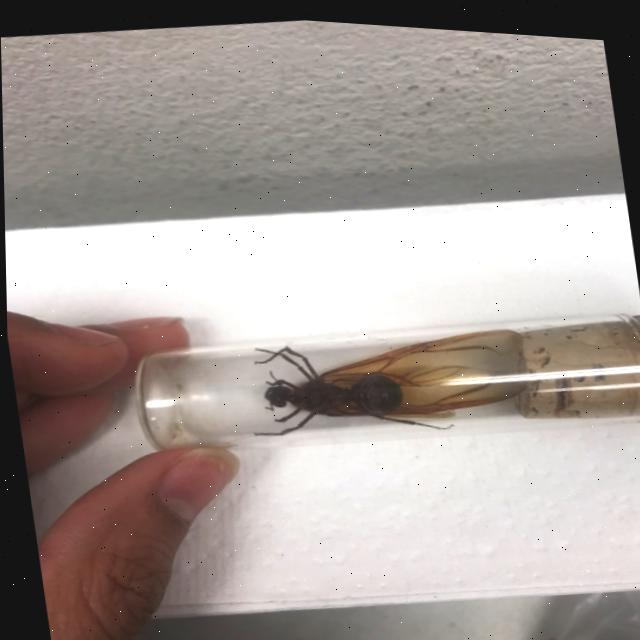Alive-Female-Alate: (238, 305, 534, 452)
